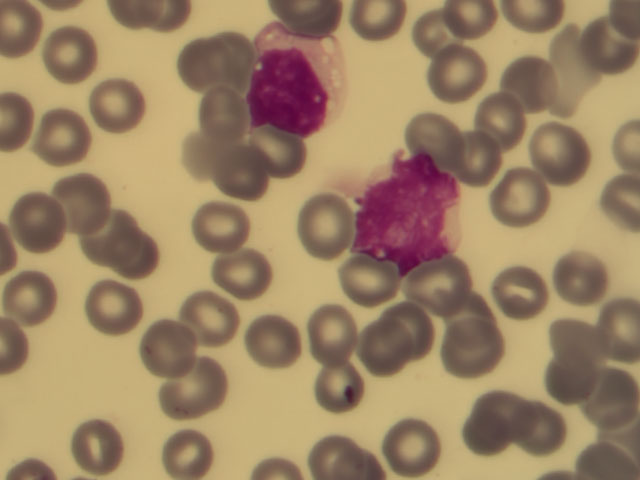RBC: (37, 22, 102, 89), (85, 71, 150, 138), (31, 108, 96, 175), (54, 170, 119, 237), (5, 191, 70, 258), (75, 205, 140, 272), (98, 216, 163, 283), (85, 275, 150, 342), (3, 266, 68, 333), (137, 313, 202, 380), (178, 286, 243, 353), (203, 244, 268, 311), (185, 197, 250, 264), (202, 140, 267, 207), (245, 123, 310, 190), (187, 86, 252, 153), (170, 35, 235, 102), (196, 18, 261, 85), (405, 5, 470, 72), (427, 43, 492, 110), (468, 91, 533, 158), (460, 123, 525, 190), (407, 110, 472, 177), (498, 164, 563, 231), (524, 119, 589, 186), (504, 51, 569, 118), (540, 30, 605, 97), (552, 239, 617, 306), (489, 261, 554, 328), (432, 322, 497, 389), (433, 280, 498, 347), (414, 257, 479, 324), (393, 292, 458, 359), (351, 316, 416, 383), (312, 302, 377, 369), (330, 257, 395, 324), (293, 190, 358, 257), (246, 312, 311, 379), (306, 356, 371, 423), (167, 356, 232, 423), (67, 413, 132, 480), (159, 413, 224, 480), (383, 413, 448, 480), (462, 389, 527, 456), (513, 397, 578, 464), (544, 350, 609, 417), (543, 305, 608, 372), (575, 369, 640, 436), (581, 4, 640, 67), (351, 1, 410, 44)
WBC: (356, 148, 466, 273), (251, 21, 354, 136)
